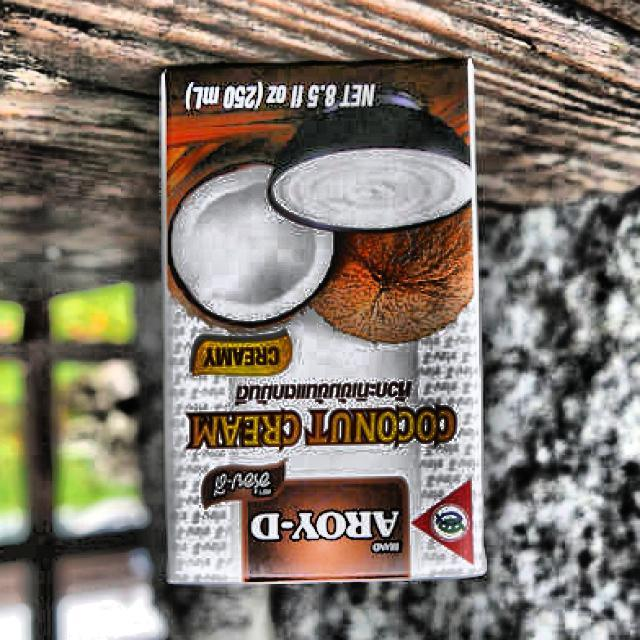cardboard: (160, 58, 487, 587)
